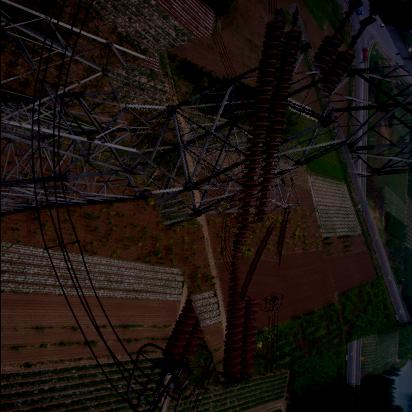insulator: (134, 16, 385, 378), (233, 223, 281, 301)
